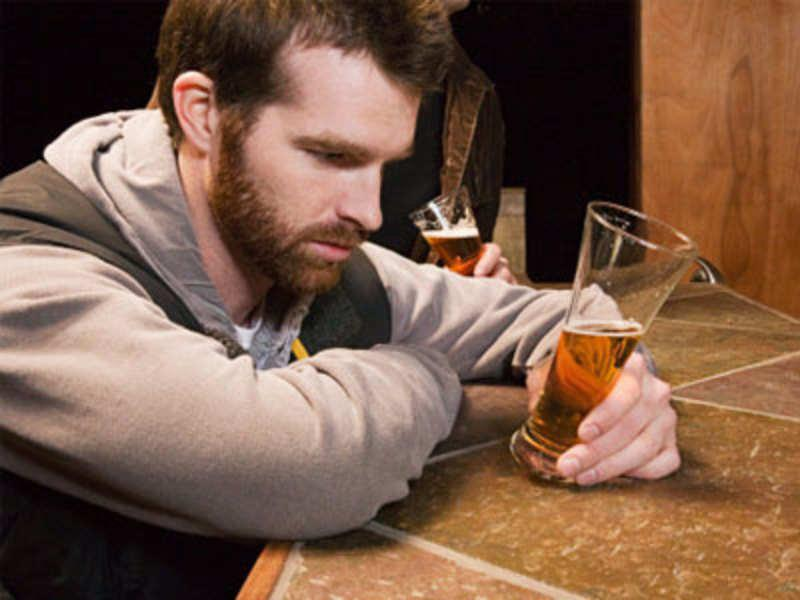Drunk: (268, 45, 404, 285)
